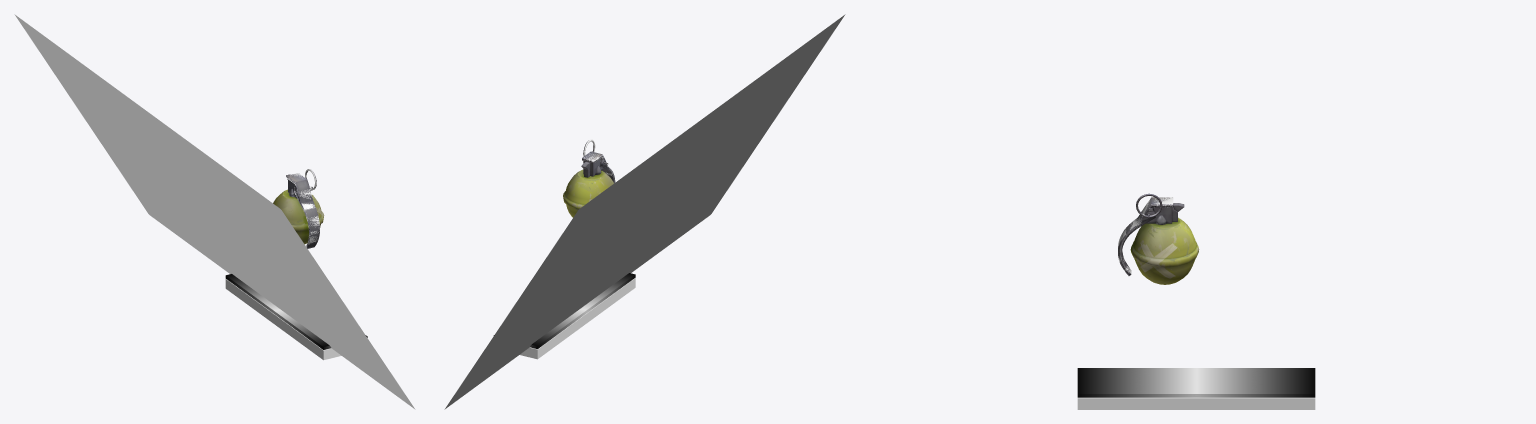
The model's file is Grenade.glb.
3 renders of one model, left to right at view 1: azimuth 30°, elevation 25°; view 2: azimuth 150°, elevation 25°; view 3: azimuth 270°, elevation 25°, orthographic. The views are drawn at different scales.
Visible parts, largest first — view 1: LightQuad, HandleModel (×2), Cube (1), BodyModel, Cube; view 2: LightQuad, BodyModel, Cube (1), Cube; view 3: Cube, BodyModel, Cube (1), HandleModel.
Part boxes in pixels (bbox=[...]): LightQuad: bbox=[14, 14, 415, 409]; HandleModel (×2): bbox=[286, 173, 319, 248]; Cube (1): bbox=[225, 279, 341, 360]; BodyModel: bbox=[273, 174, 324, 244]; Cube: bbox=[225, 274, 367, 349]; LightQuad: bbox=[444, 14, 845, 409]; BodyModel: bbox=[563, 158, 613, 217]; Cube (1): bbox=[520, 278, 635, 359]; Cube: bbox=[493, 273, 635, 348]; Cube: bbox=[1077, 368, 1315, 397]; BodyModel: bbox=[1130, 203, 1199, 284]; Cube (1): bbox=[1077, 397, 1315, 409]; HandleModel: bbox=[1118, 197, 1173, 275].
Size of what is drawn, in the model's own units: 0.3396 by 0.4633 by 0.9217.
Materials: 5 (2 with a texture image).
